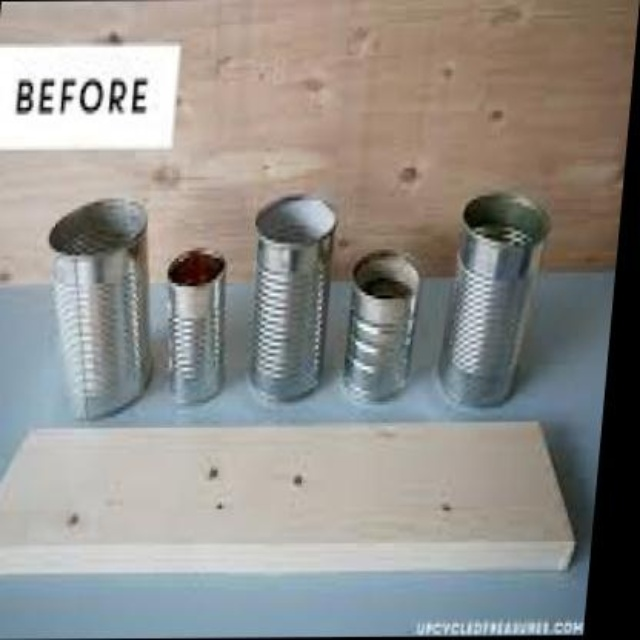trash: (438, 194, 549, 405), (49, 198, 149, 418), (251, 197, 335, 398), (345, 251, 418, 400), (168, 249, 225, 403)
